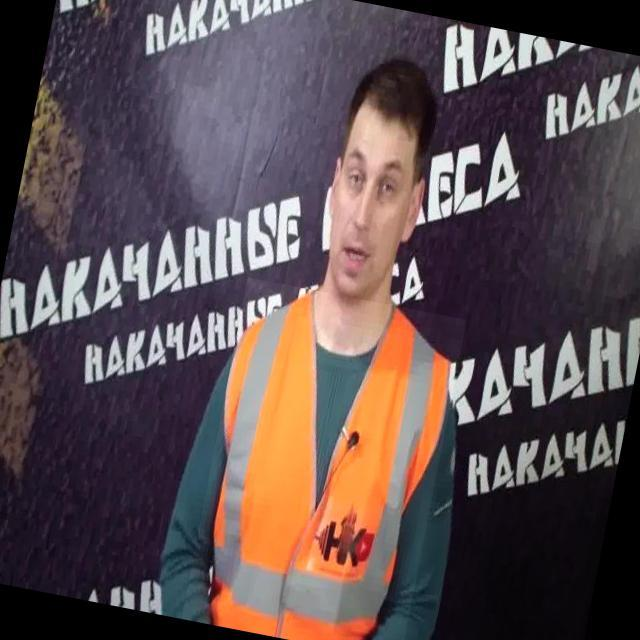Helmet: (348, 54, 438, 104)
Person: (144, 39, 495, 640)
Safety Vest: (182, 277, 468, 640)
